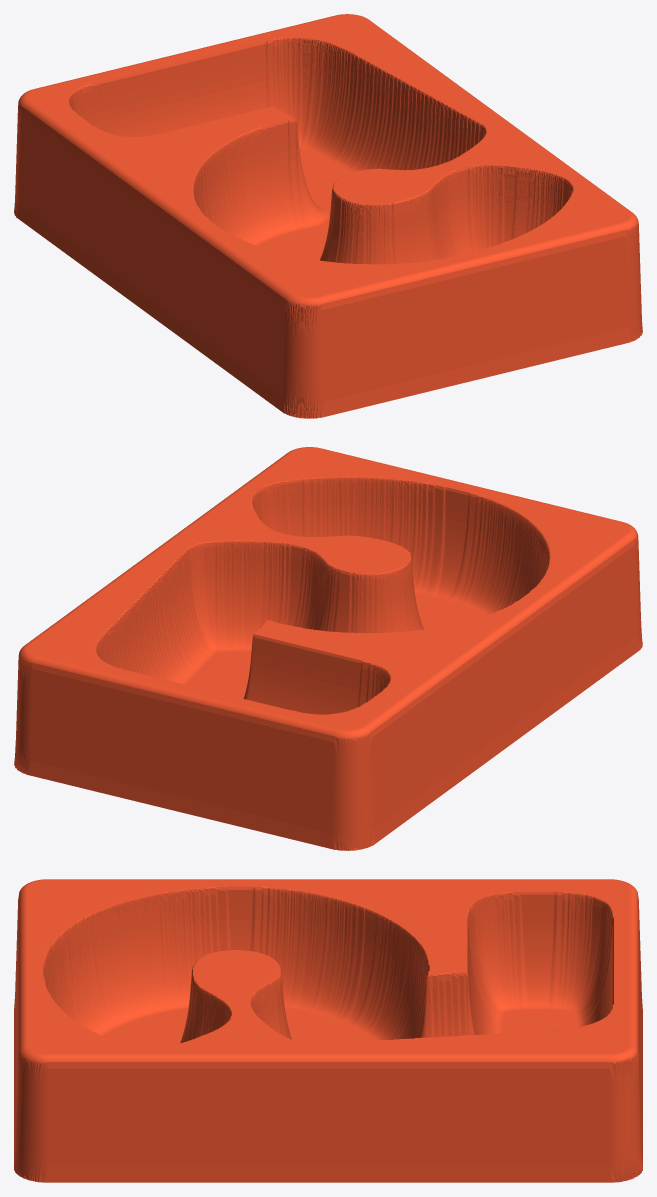
Rendered from mold.glb.
3 renders of one model, top to bottom at view 1: azimuth 30°, elevation 25°; view 2: azimuth 150°, elevation 25°; view 3: azimuth 270°, elevation 25°, orthographic. The views are drawn at different scales.
Parts seen in each view (by area): view 1: geometry_0; view 2: geometry_0; view 3: geometry_0.
Part boxes in pixels (left/top/right/bottom): geometry_0: left=14, top=14, right=642, bottom=418; geometry_0: left=14, top=447, right=642, bottom=850; geometry_0: left=14, top=879, right=642, bottom=1182.
Size of the model in its own units: 0.1177 by 0.0365 by 0.1689.
